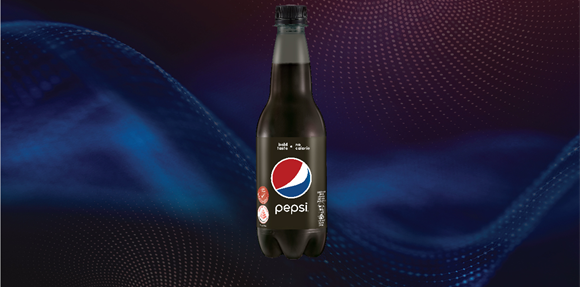pepsi: (268, 156, 312, 198)
